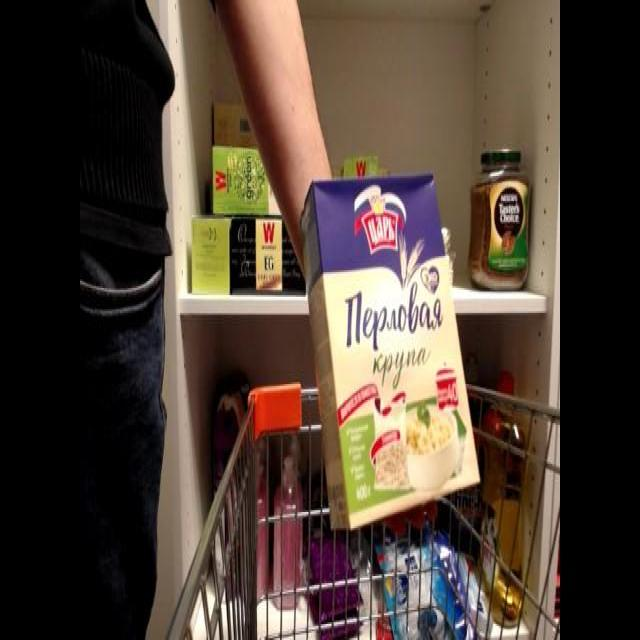Groats: (295, 169, 485, 533)
